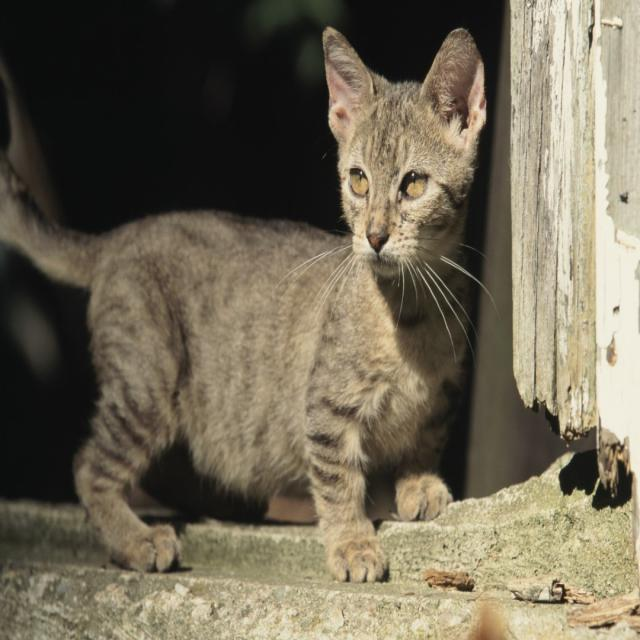Munchkin: (0, 16, 490, 589)
